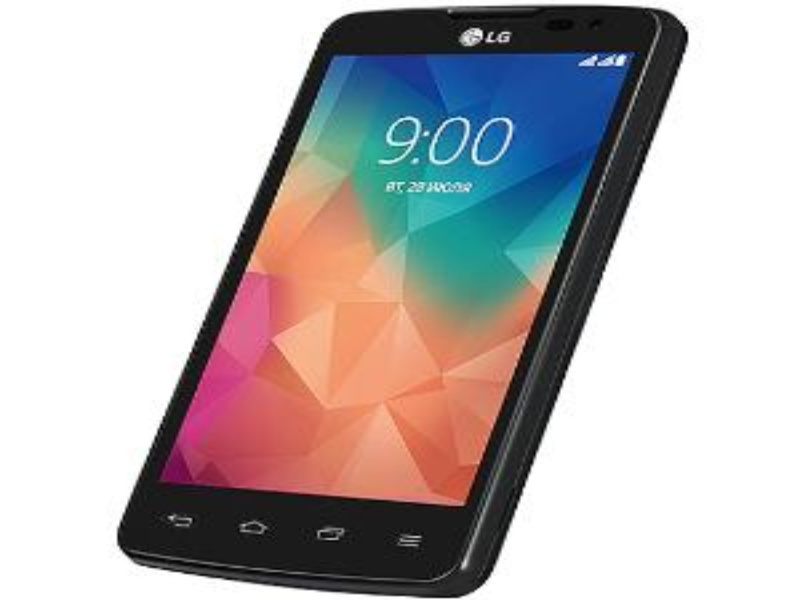mobile: (87, 5, 709, 592)
